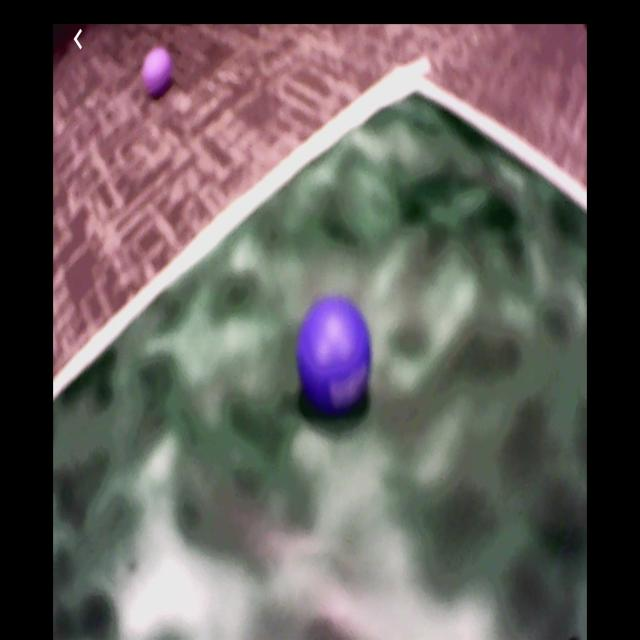ball: (298, 296, 373, 405), (144, 46, 174, 99)
